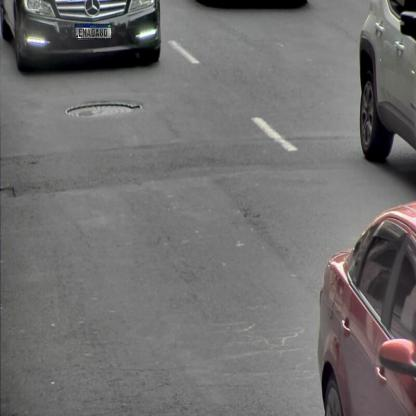PlacaM: (75, 23, 112, 39)
